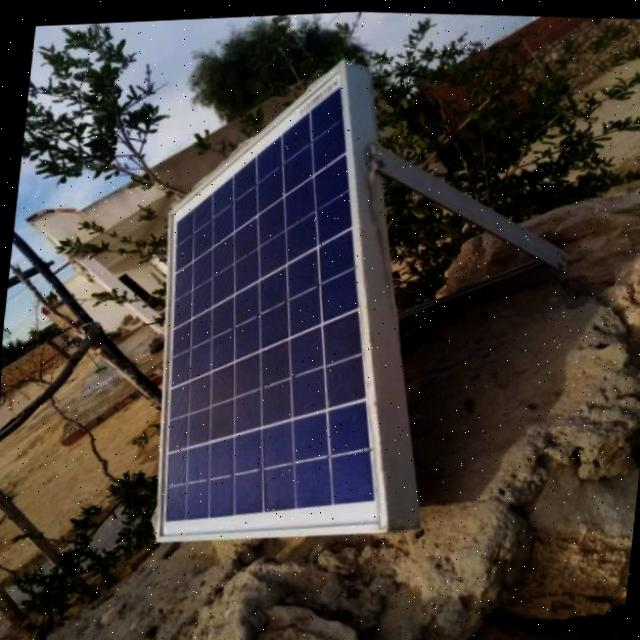Normal Solar Panel: (140, 49, 438, 546)
